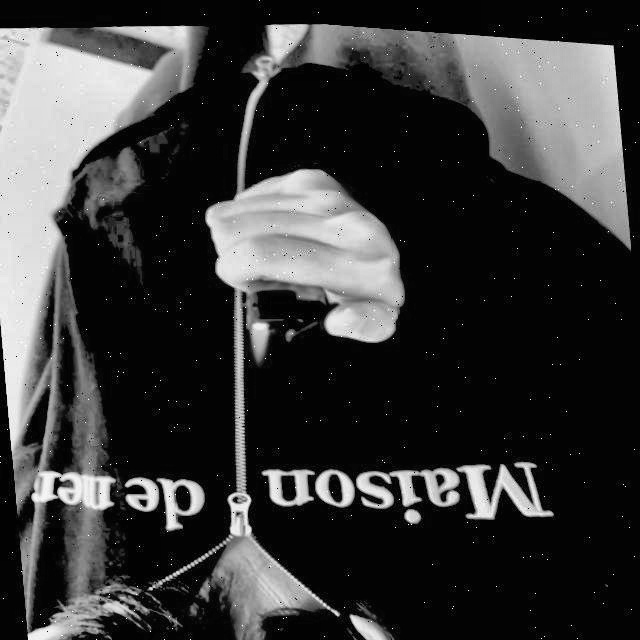Fire: (246, 315, 272, 365)
